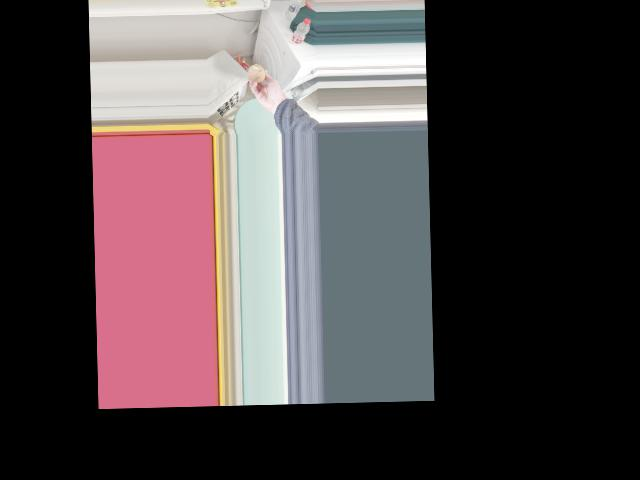sweet_potato: (249, 64, 265, 85)
